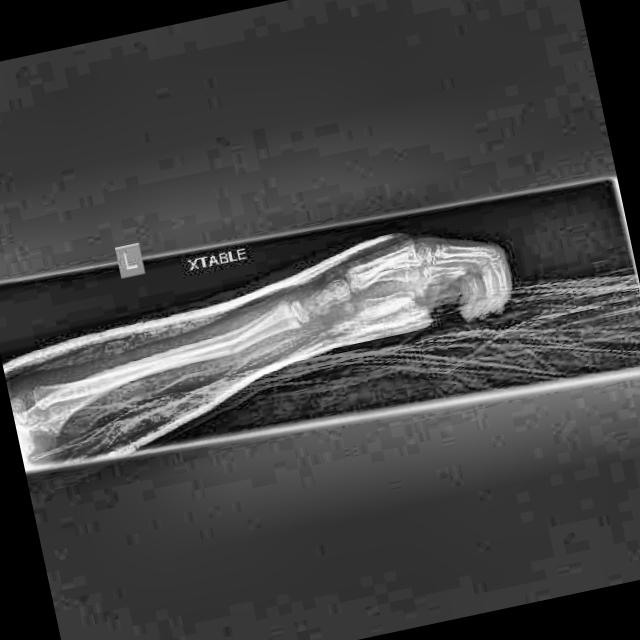forearm fracture: (209, 312, 263, 376)
